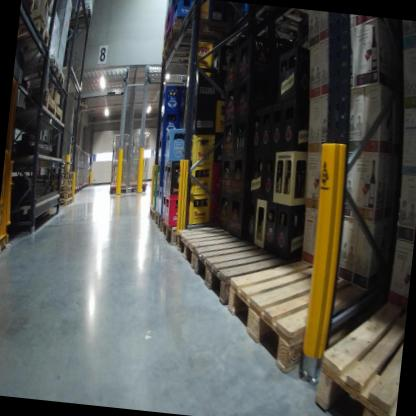pallet: (216, 254, 379, 383), (192, 216, 324, 323), (314, 281, 408, 416), (174, 212, 245, 275), (162, 215, 207, 250), (16, 15, 52, 58), (18, 64, 67, 90), (20, 48, 60, 79), (49, 174, 75, 187), (49, 184, 74, 197), (153, 207, 166, 231), (52, 169, 76, 182), (145, 202, 157, 223), (20, 0, 36, 15), (56, 194, 73, 207), (54, 183, 74, 193)
